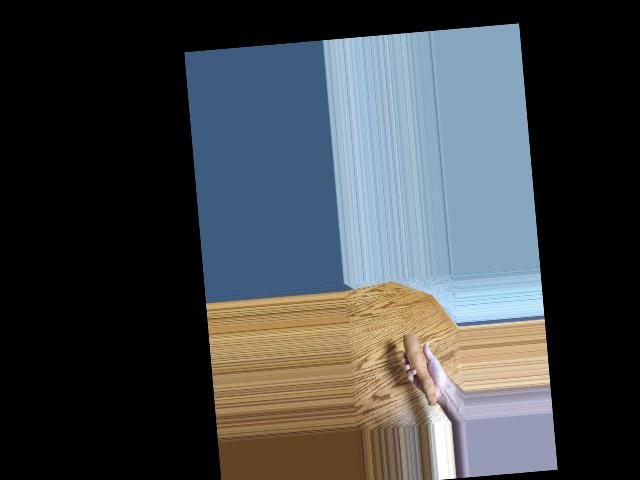sweet_potato: (399, 331, 438, 415)
